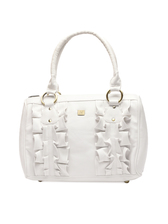bag: (14, 33, 147, 184)
